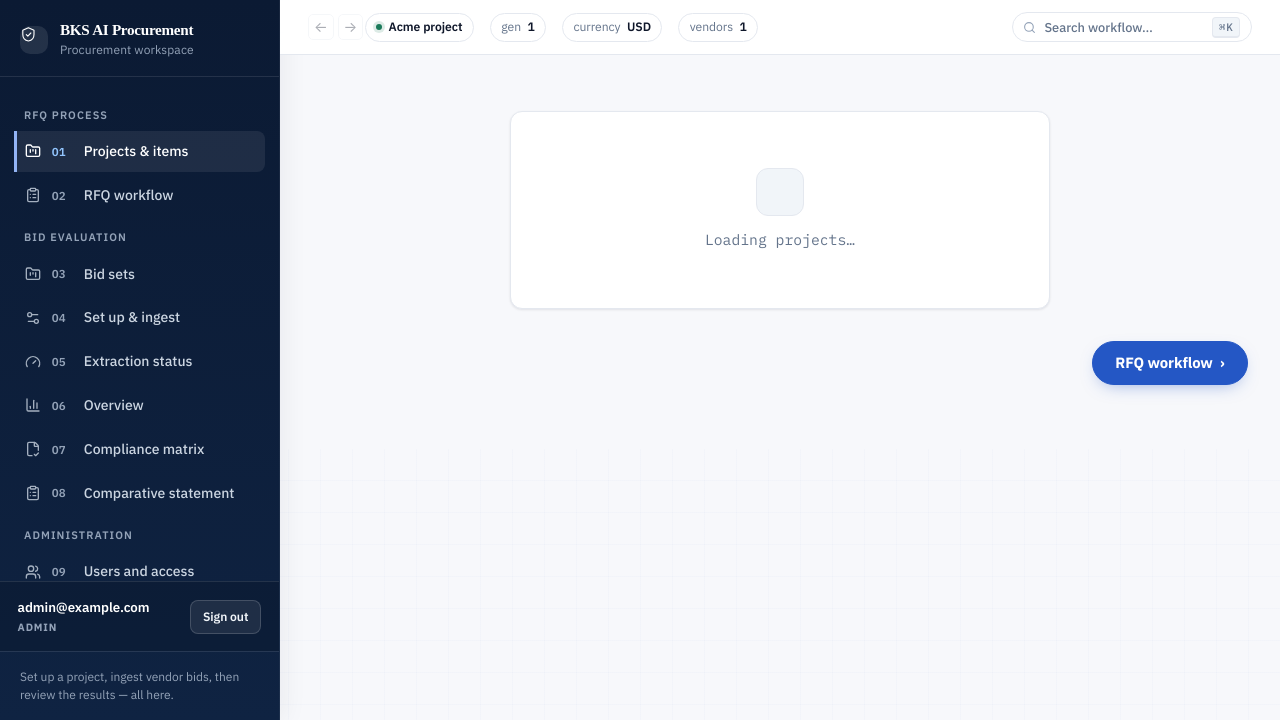
Test case: signing in lands on the RFQ process, not on bid evaluation › still reaches the RFQ workflow from the rail
The image size is (1280, 720).
Expected: the text "Acme project" is shown, [389,18,462,36]
Click the button "02 RFQ workflow".
click(140, 195)  # box [14,175,265,216]
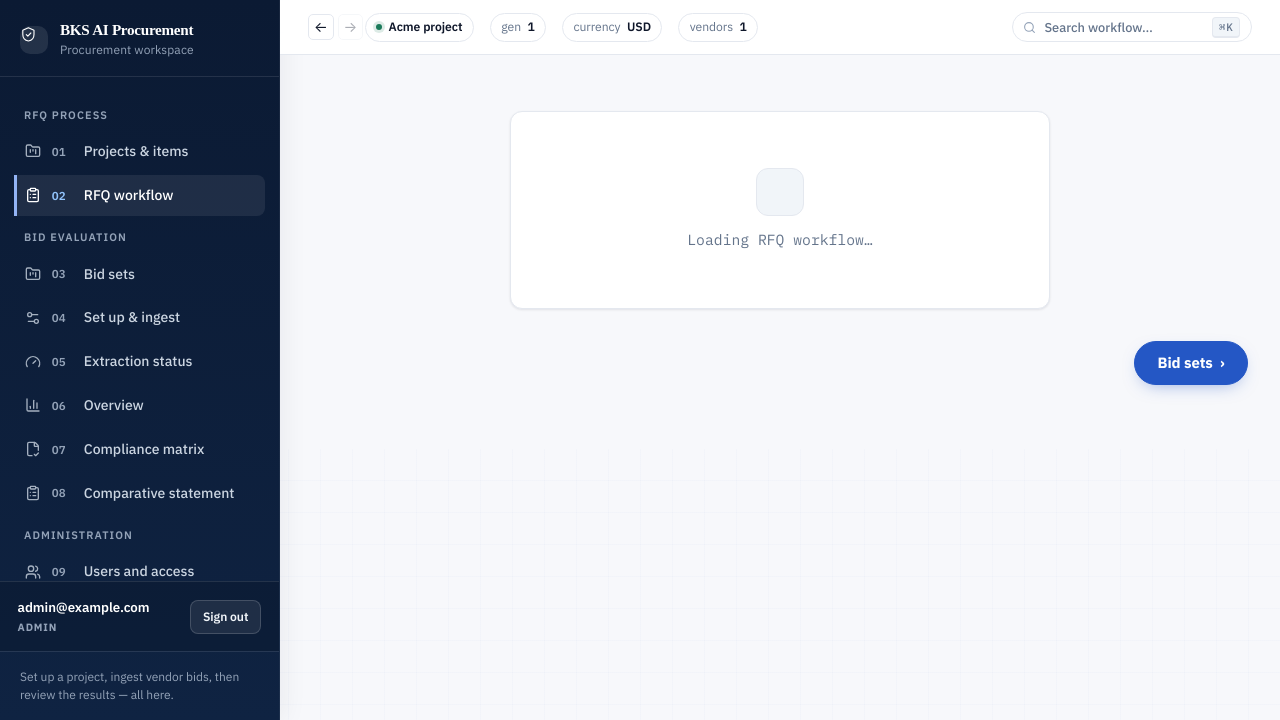
Now the text "Loading RFQ workflow…" is shown, box [687,228,873,252]
